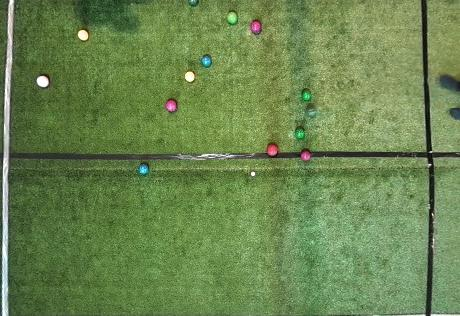blue: (201, 55, 212, 68), (138, 164, 149, 175)
green: (227, 11, 238, 24), (294, 128, 304, 139), (306, 106, 316, 117), (301, 90, 311, 101), (187, 0, 199, 7)
red: (266, 144, 278, 157), (36, 76, 50, 87), (165, 100, 177, 112), (250, 21, 262, 33), (300, 149, 311, 161)
vline: (421, 0, 459, 315), (0, 0, 18, 315)
white: (250, 172, 255, 176)
yellow: (77, 30, 89, 41), (184, 72, 195, 82)
